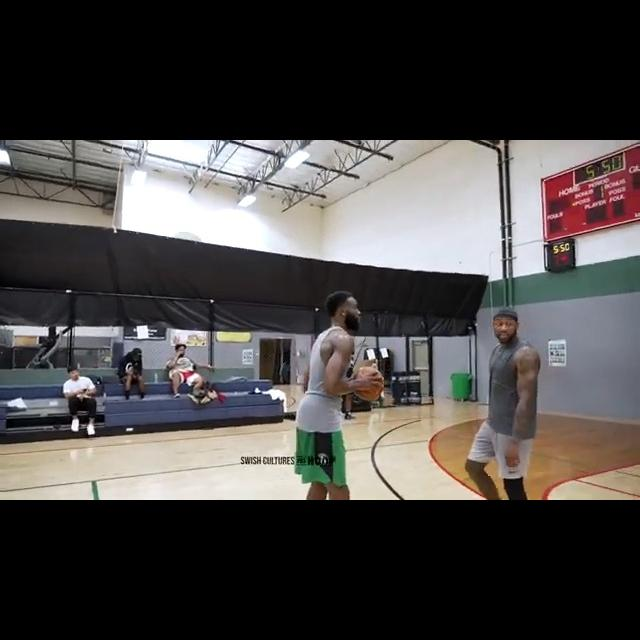basketball: (351, 366, 385, 401)
person: (285, 290, 377, 500), (465, 309, 542, 500), (163, 338, 208, 402), (64, 366, 101, 439), (116, 346, 151, 403)
